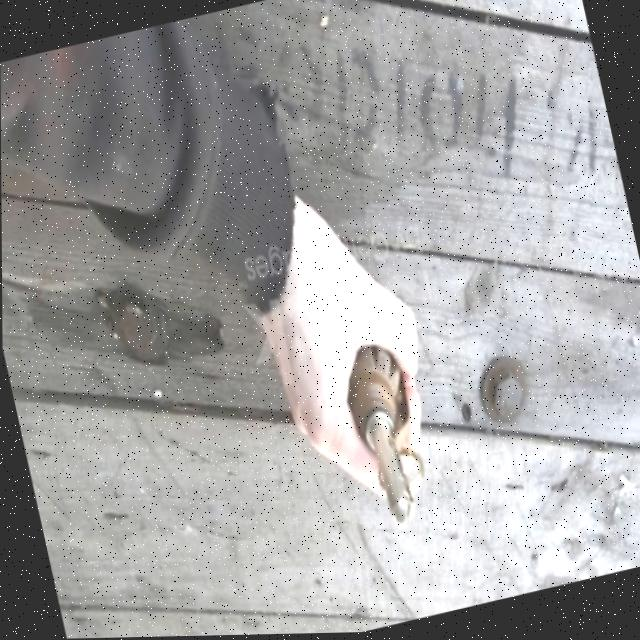grenade: (334, 337, 439, 540)
